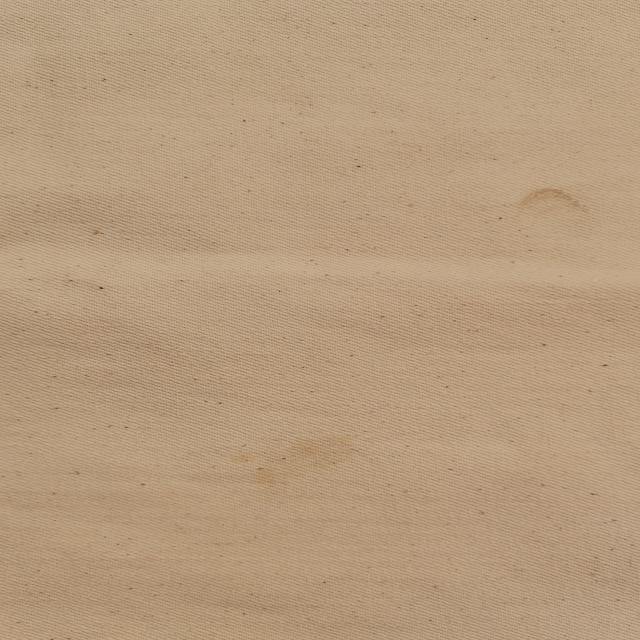taaaches: (223, 434, 358, 482), (505, 183, 600, 223)
